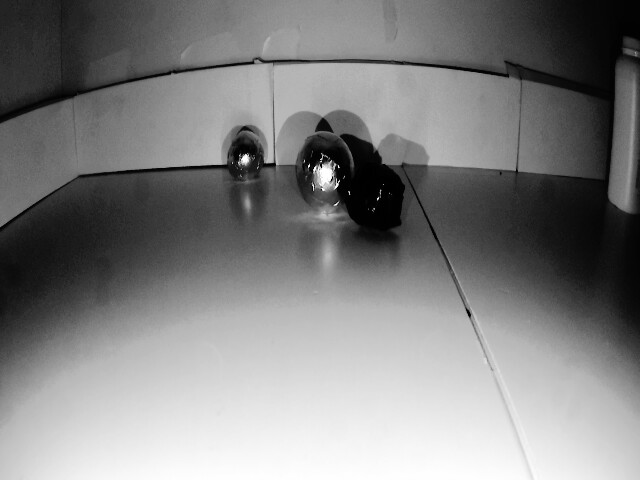black: (342, 158, 403, 244)
silver: (291, 132, 356, 202), (225, 125, 264, 183)
